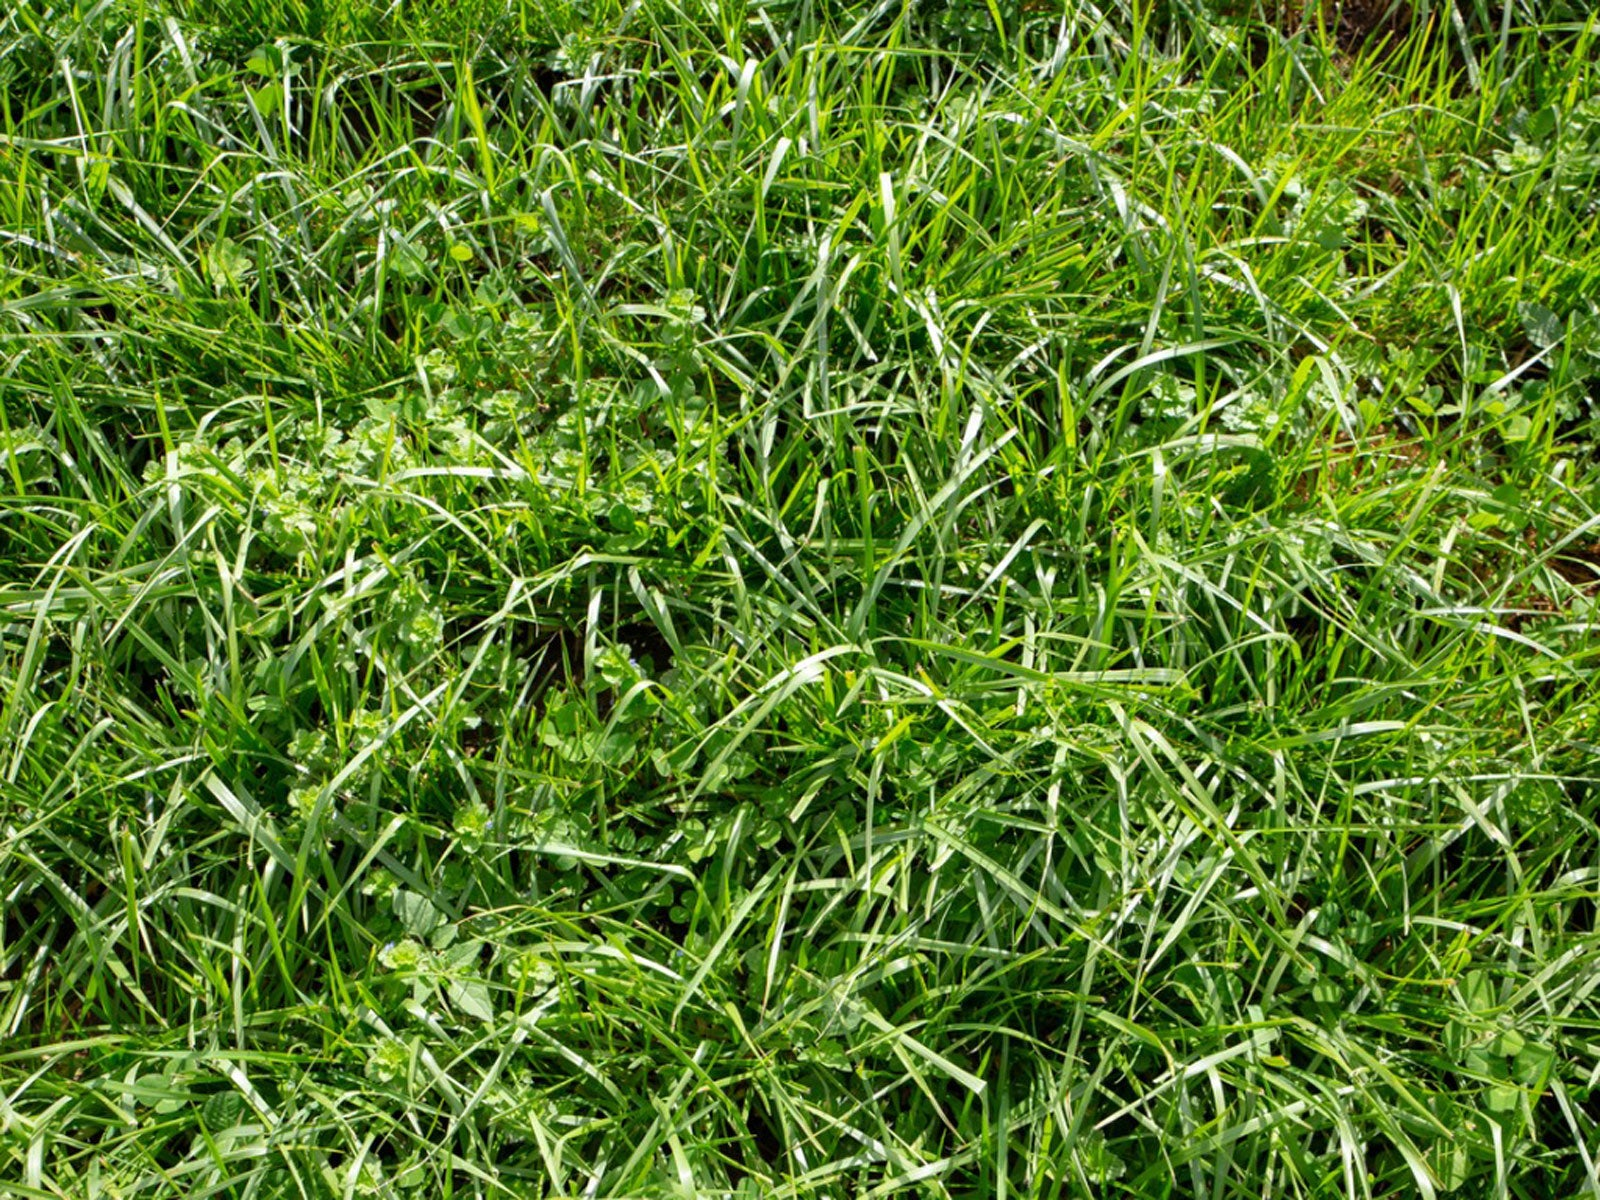grass: (3, 3, 1600, 1200)
